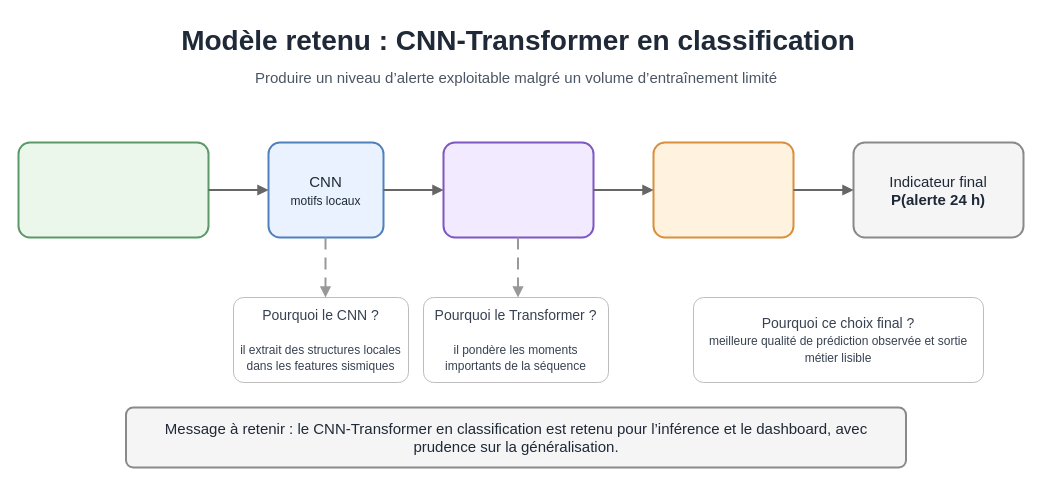
The diagram is 1041 pixels wide and 485 high, and some of its shapes have lost their labels. The centre of each missing label's shape, as x and y in pixels:
Classification 6 classes niveaux d’alerte: pixel 723 189
Séquences temporelles features sismiques: pixel 113 189
Transformer attention temporelle: pixel 518 189
